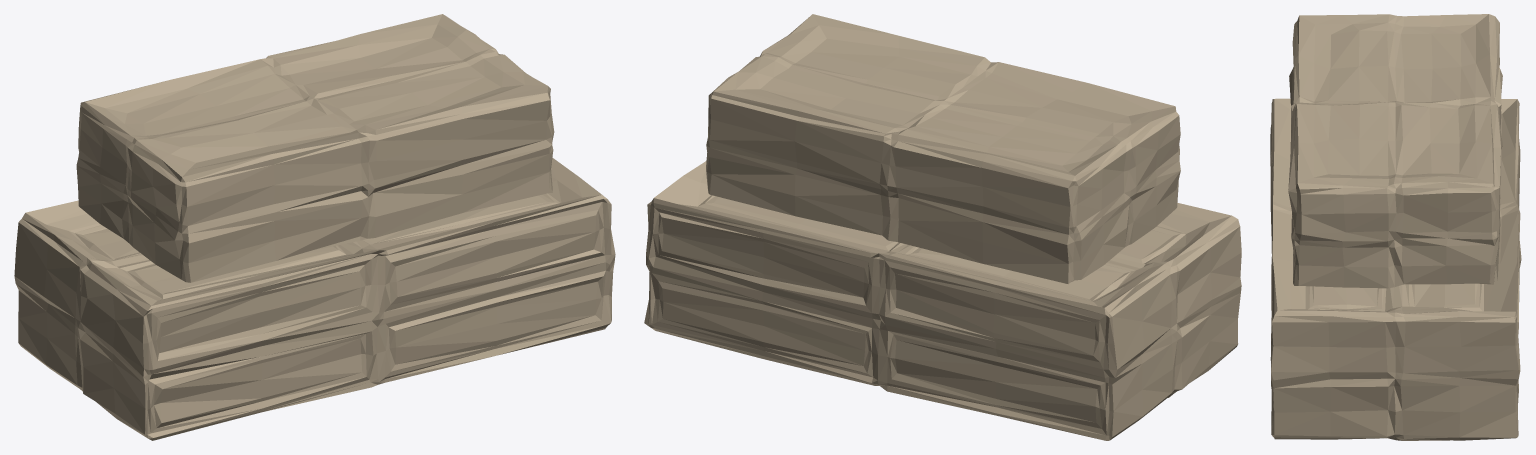
File: SM_Altar.fbx
3 renders of one model, left to right at view 1: azimuth 30°, elevation 25°; view 2: azimuth 150°, elevation 25°; view 3: azimuth 270°, elevation 25°, orthographic. The views are drawn at different scales.
Visible parts, largest first — view 1: SM_Altar; view 2: SM_Altar; view 3: SM_Altar.
Part boxes in pixels (bbox=[...]): SM_Altar: bbox=[14, 14, 615, 440]; SM_Altar: bbox=[644, 14, 1241, 440]; SM_Altar: bbox=[1270, 14, 1521, 440].
Bounding box in the file's own units: 2.02 × 1.01 × 0.9707.
